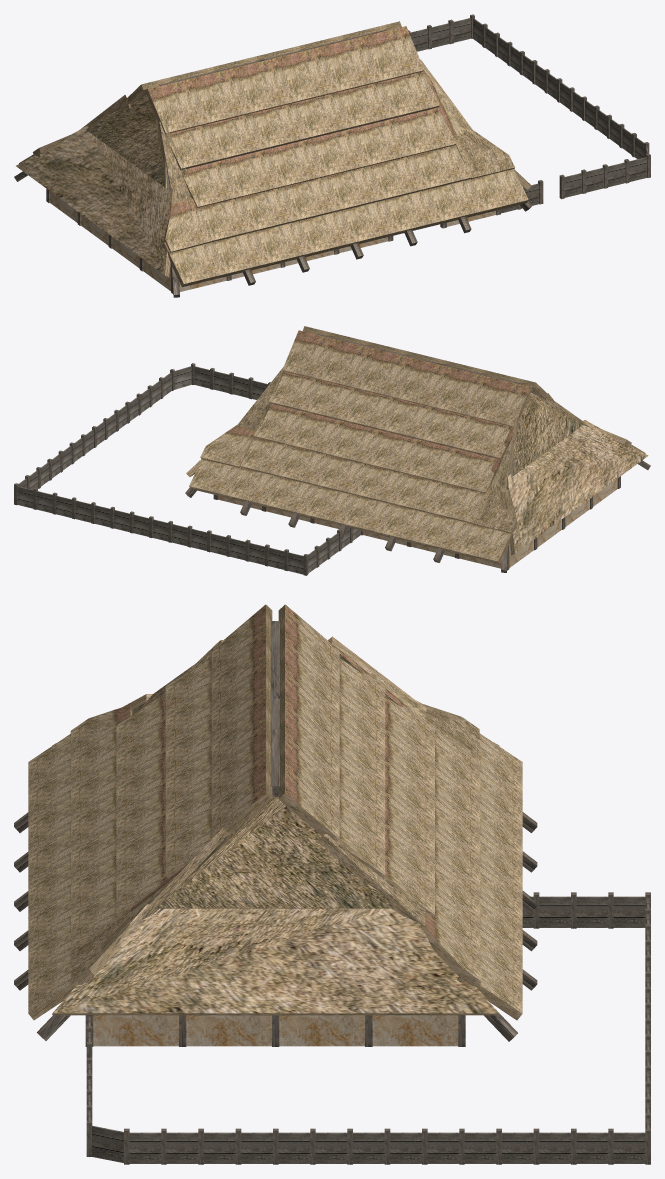
Rendered from grande_charpente_texture_sans_nrm.glb.
The picture shows the model from 3 angles, top to bottom: view 1: azimuth 30°, elevation 25°; view 2: azimuth 150°, elevation 25°; view 3: azimuth 270°, elevation 25°; orthographic projection. The views are drawn at different scales.
Parts seen in each view (by area): view 1: Cube.002; view 2: Cube.002; view 3: Cube.002.
Part boxes in pixels (x1,y1,x2,y2): Cube.002: [14, 14, 650, 297]; Cube.002: [14, 326, 650, 575]; Cube.002: [14, 604, 650, 1164].
Size of the model in its own units: 47.18 by 13.55 by 34.21.
Materials: 15 (15 with a texture image).
